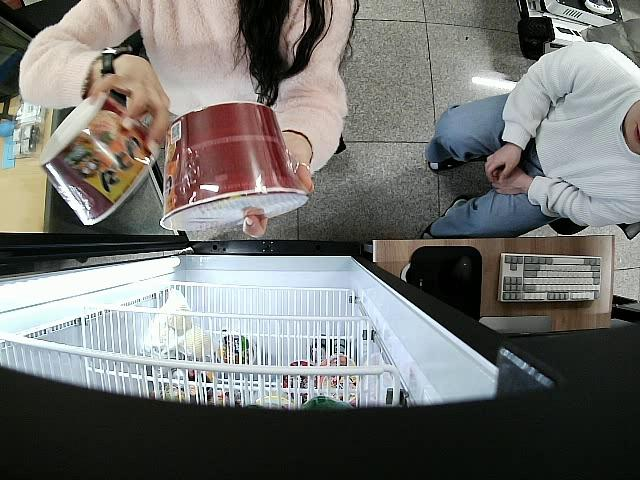00_hand: (92, 42, 173, 156)
05_nuguri_L: (160, 101, 306, 231), (39, 92, 162, 227)
